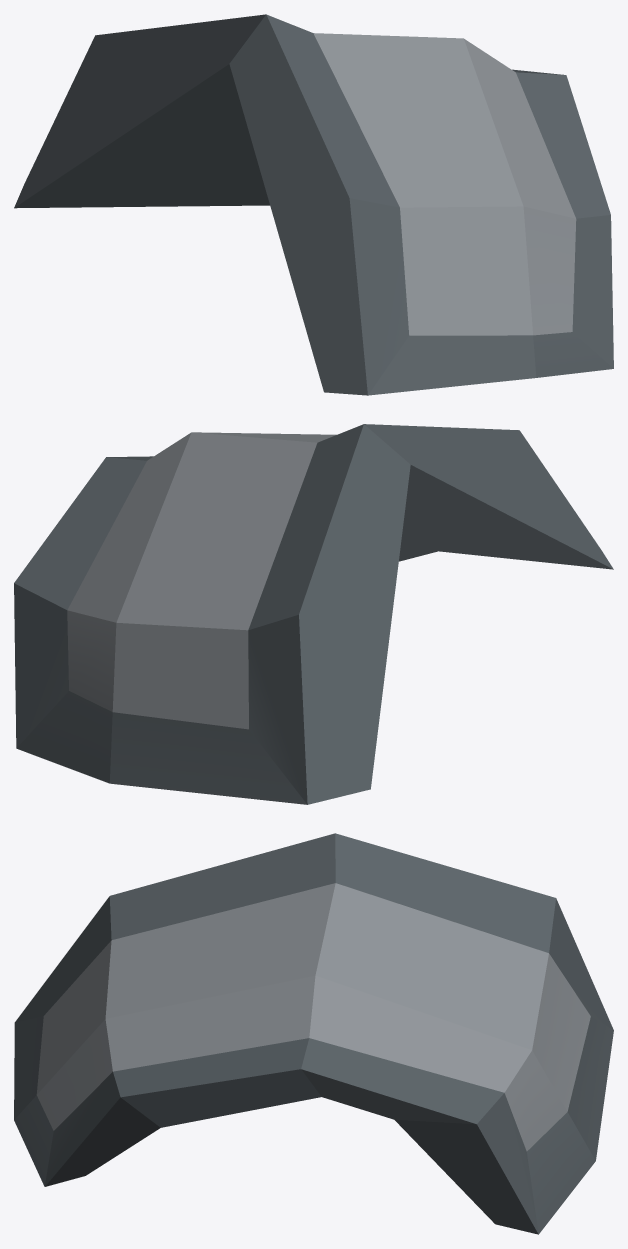
File: Chr_ShoulderAttachLeft_02_Static.fbx
3 views of the same model, one above another, from view 1: azimuth 30°, elevation 25°; view 2: azimuth 150°, elevation 25°; view 3: azimuth 270°, elevation 25° (orthographic). The views are drawn at different scales.
Parts seen in each view (by area): view 1: Chr_ShoulderAttachLeft_02_Static; view 2: Chr_ShoulderAttachLeft_02_Static; view 3: Chr_ShoulderAttachLeft_02_Static.
Boxes of the visible parts, left/top/right/bottom form: Chr_ShoulderAttachLeft_02_Static: left=14, top=14, right=613, bottom=395; Chr_ShoulderAttachLeft_02_Static: left=14, top=424, right=613, bottom=804; Chr_ShoulderAttachLeft_02_Static: left=14, top=833, right=613, bottom=1234.
Size of the model in its own units: 0.2459 by 0.178 by 0.3338.
